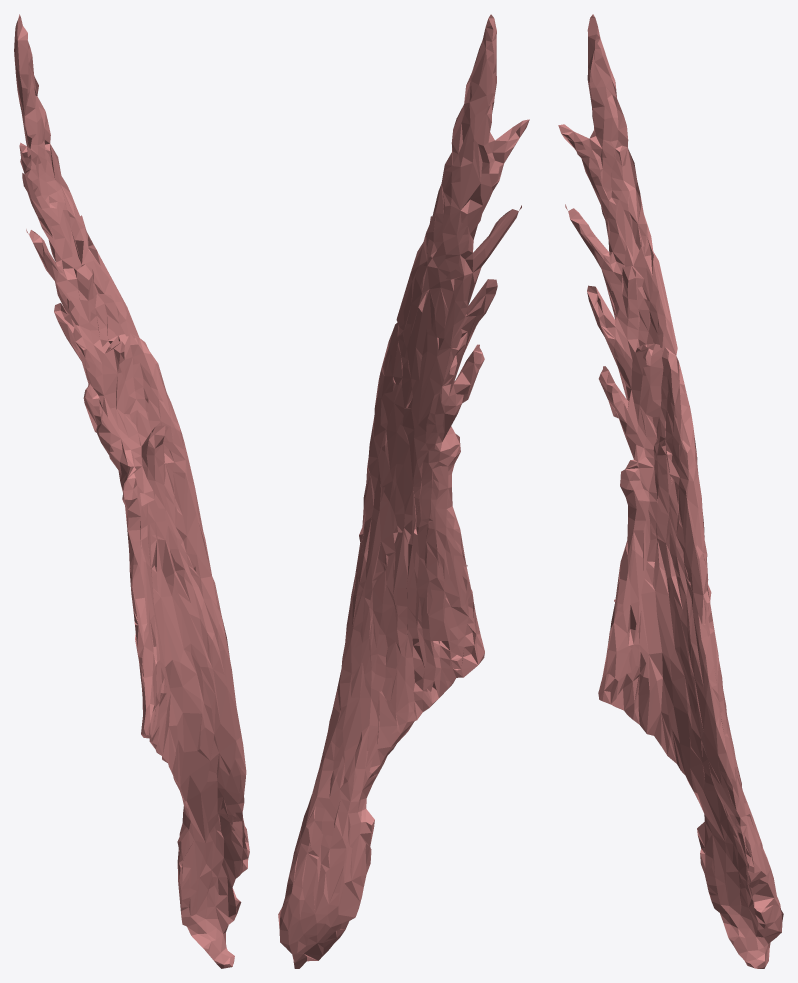
Rendered from Iliocostalis_lumborum_muscle.r.glb.
The picture shows the model from 3 angles, left to right: view 1: azimuth 30°, elevation 25°; view 2: azimuth 150°, elevation 25°; view 3: azimuth 330°, elevation 25°; orthographic projection. The views are drawn at different scales.
Parts seen in each view (by area): view 1: Iliocostalis_lumborum_muscle.r; view 2: Iliocostalis_lumborum_muscle.r; view 3: Iliocostalis_lumborum_muscle.r.
Part boxes in pixels (x1,y1,x2,y2): Iliocostalis_lumborum_muscle.r: (14, 14, 249, 968); Iliocostalis_lumborum_muscle.r: (278, 14, 529, 968); Iliocostalis_lumborum_muscle.r: (558, 14, 783, 968).
Size of the model in its own units: 0.0938 by 0.3894 by 0.046.
